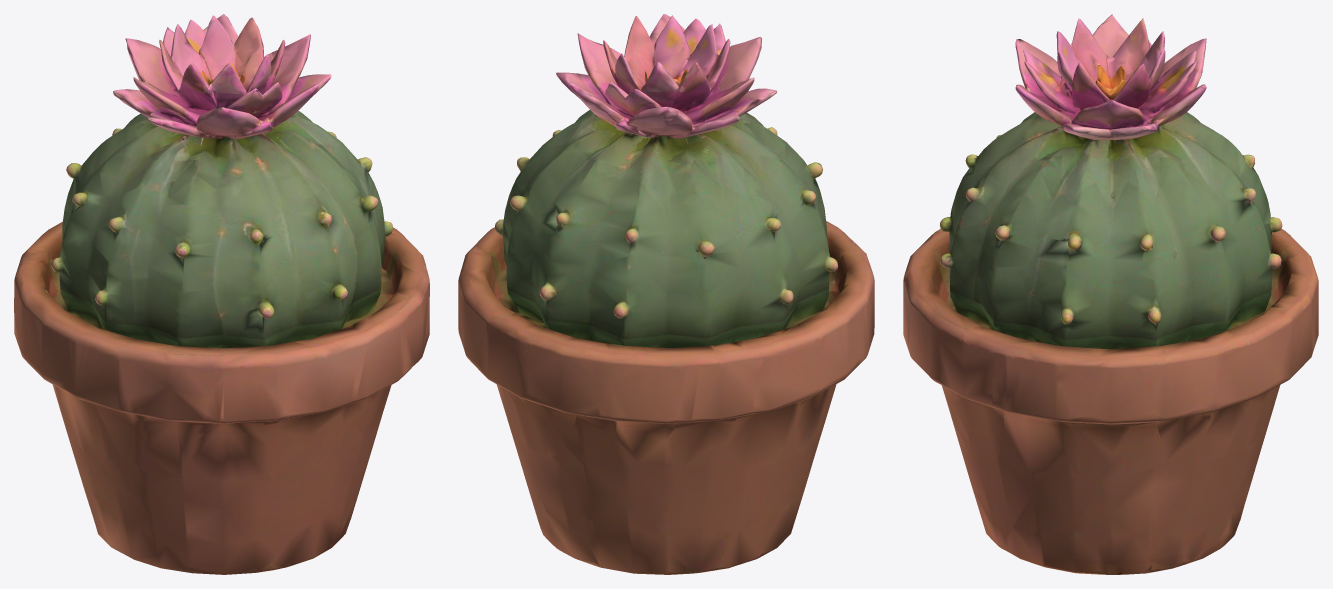
Rendered from flowerPot.glb.
3 views of the same model, side by side, from view 1: azimuth 30°, elevation 25°; view 2: azimuth 150°, elevation 25°; view 3: azimuth 270°, elevation 25° (orthographic).
Size of the model in its own units: 0.7811 by 1 by 0.7806.
1 material, 1 textured.
